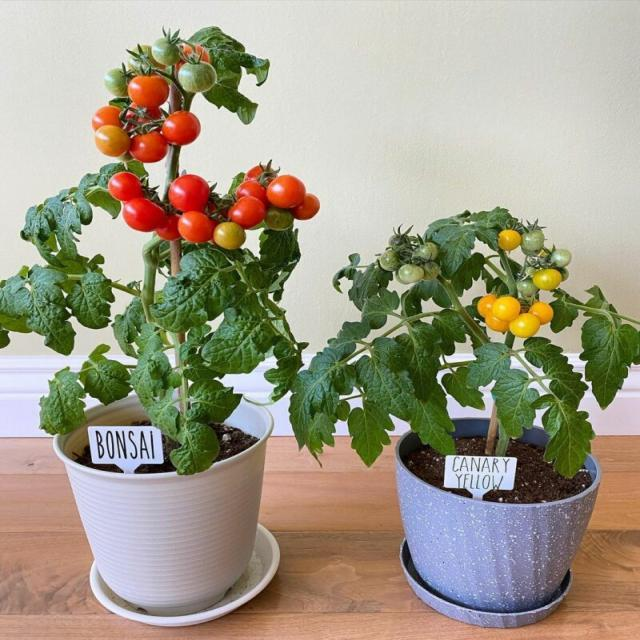tomato: (0, 26, 319, 476), (290, 207, 640, 476)
